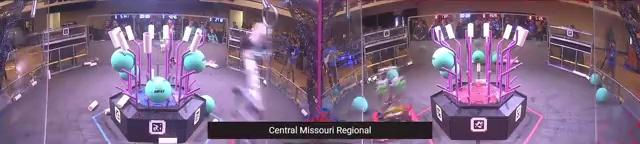reef: (426, 21, 528, 142), (109, 23, 207, 144)
robot: (225, 22, 281, 144), (371, 70, 423, 124)
